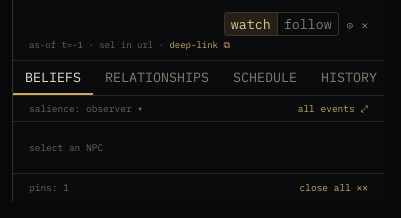
Test: NpcInspector › switches to a placeholder body on the other tabs (not wired yet)
Click the tab with class "npc-inspector__tab" showing "RELATIONSHIPS".
click(157, 78)  # box [93,61,221,95]
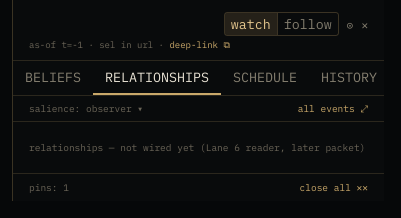
expect the text with class "npc-inspector__placeholder" shows "relationships": met, box [29,141,365,154]
